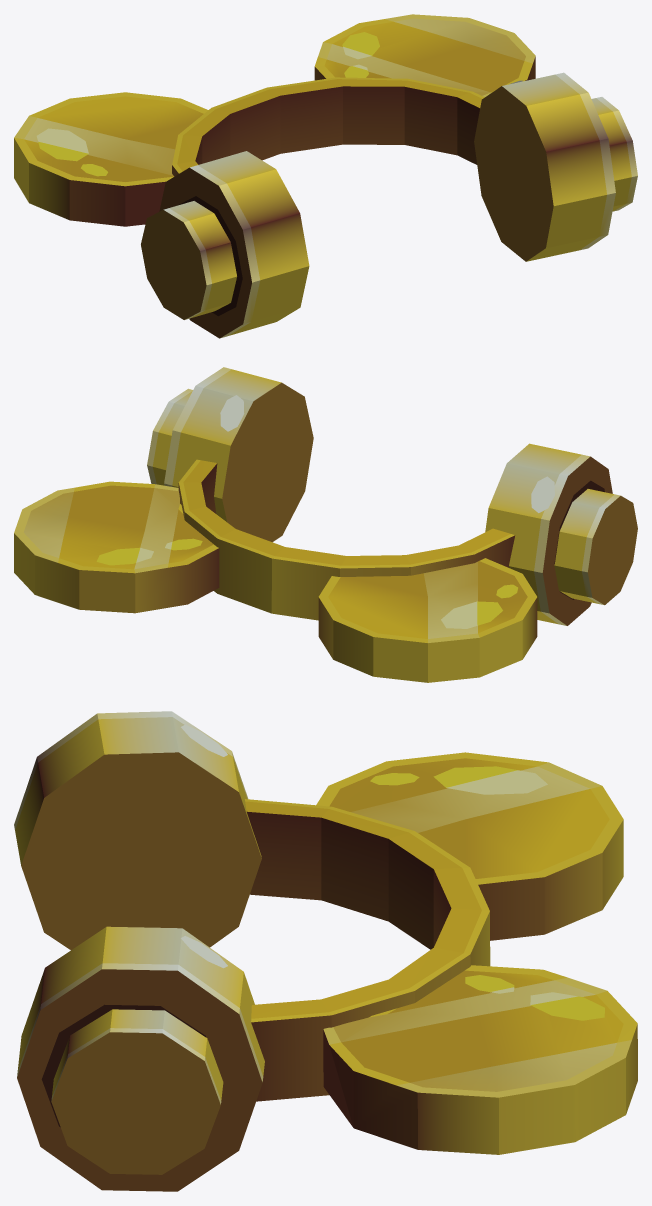
File: RDMAHeadphones.fbx
3 renders of one model, top to bottom at view 1: azimuth 30°, elevation 25°; view 2: azimuth 150°, elevation 25°; view 3: azimuth 270°, elevation 25°, orthographic. The views are drawn at different scales.
Visible parts, largest first — view 1: RDMAHeadphones; view 2: RDMAHeadphones; view 3: RDMAHeadphones.
Boxes of the visible parts, x1,y1,x2,y2 form: RDMAHeadphones: (14,14,637,338); RDMAHeadphones: (14,367,637,682); RDMAHeadphones: (14,711,637,1191).
Bounding box in the file's own units: 421 × 128 × 322.
